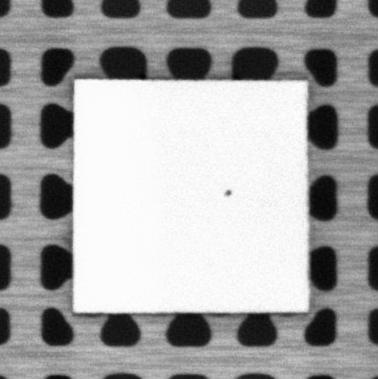DIE_INK: (219, 186, 234, 199)
